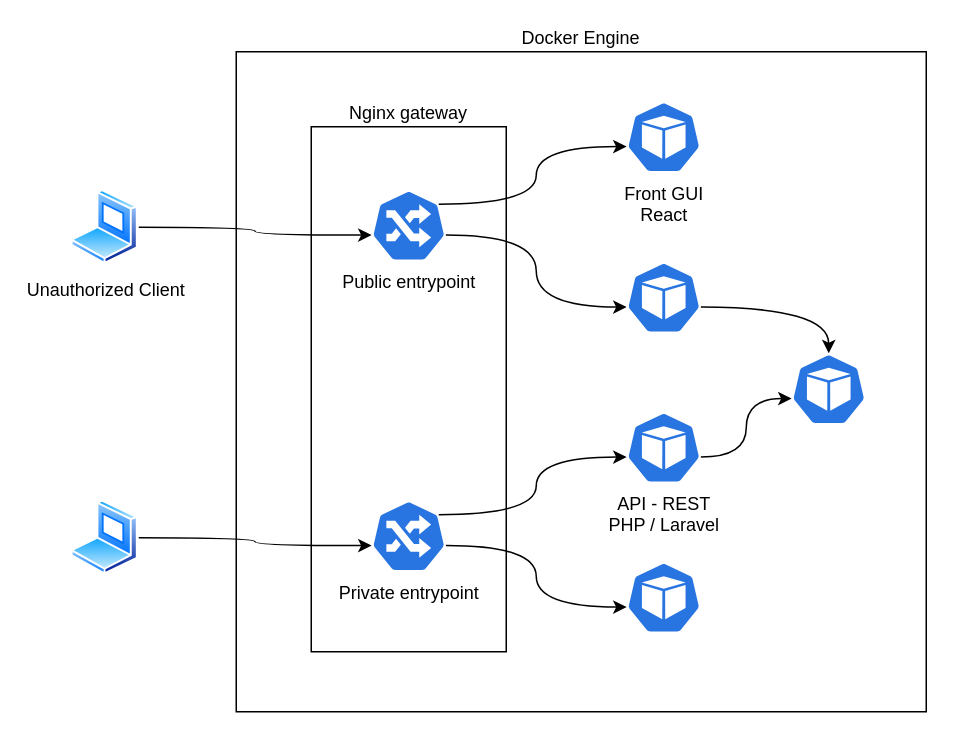
Some shapes in this 953 by 738 pixel diagram are drawn without their labels. The shapes that lost their labels are listed below. From the top down, each one's centre as x and y in pixels, then its label:
At (x=663, y=297): "API - GraphQL Python / Flask".
At (x=828, y=388): "MySQL DB".
At (x=104, y=537): "Authorized Client".
At (x=663, y=597): "Front GUI Angular".
